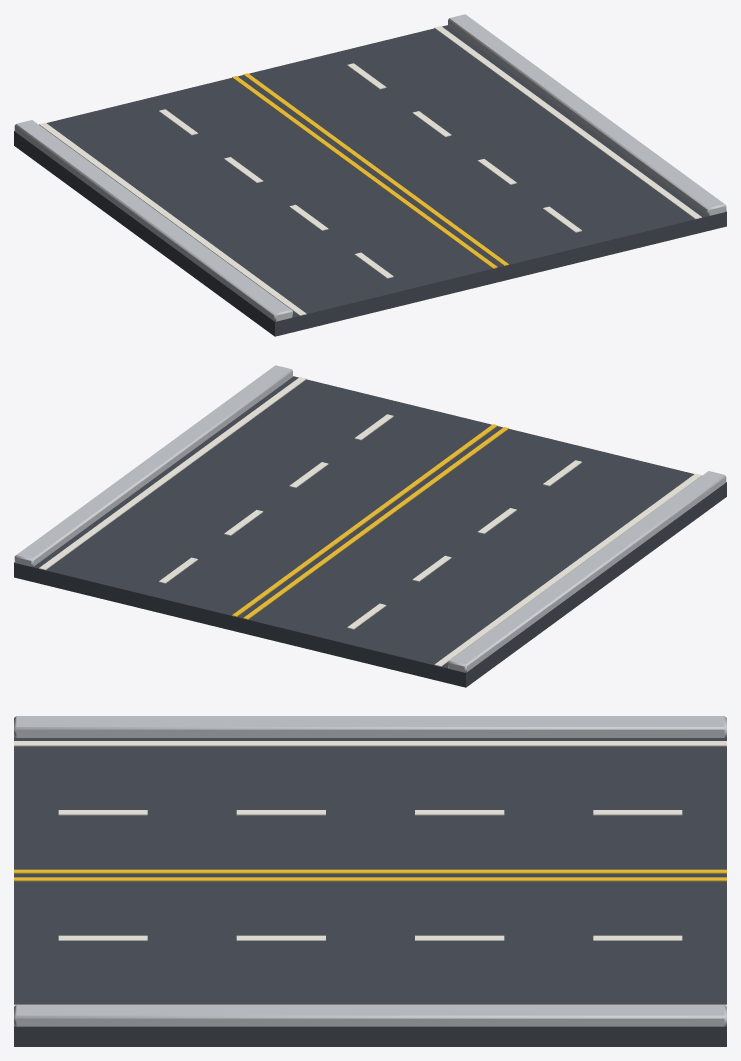
File: ct_road.glb
3 views of the same model, one above another, from view 1: azimuth 30°, elevation 25°; view 2: azimuth 150°, elevation 25°; view 3: azimuth 270°, elevation 25° (orthographic). The views are drawn at different scales.
Parts seen in each view (by area): view 1: ct_road; view 2: ct_road; view 3: ct_road.
Part boxes in pixels (x1=…): ct_road: x1=14, y1=14, x2=726, y2=336; ct_road: x1=14, y1=365, x2=726, y2=687; ct_road: x1=14, y1=716, x2=726, y2=1046.
Bounding box in the file's own units: 9.6 × 0.45 × 9.6.
